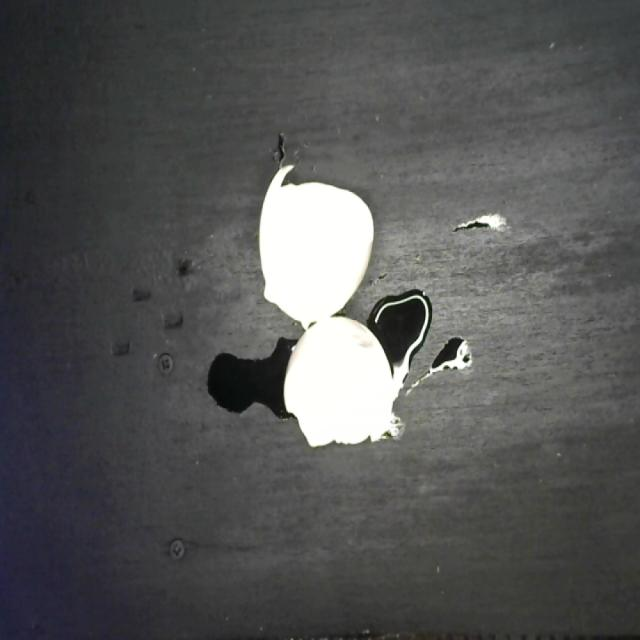biodegradable: (256, 158, 397, 456)
